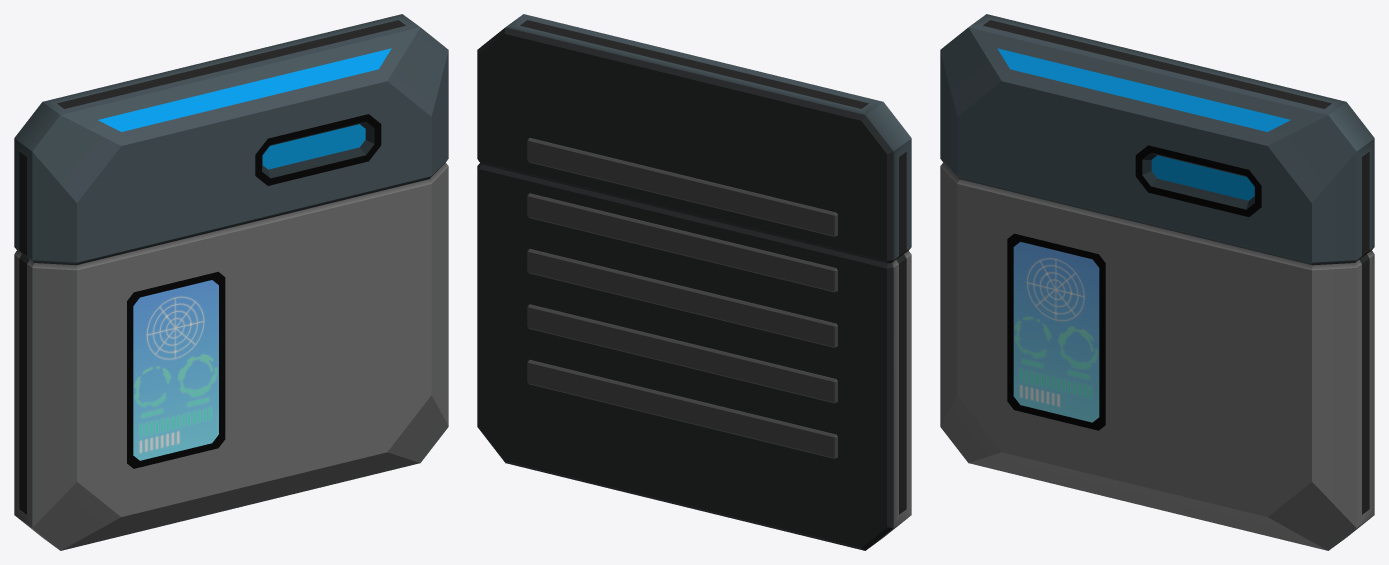
Rendered from Cargo_drone_001_door_001.fbx.
The picture shows the model from 3 angles, left to right: view 1: azimuth 30°, elevation 25°; view 2: azimuth 150°, elevation 25°; view 3: azimuth 330°, elevation 25°; orthographic projection.
Parts seen in each view (by area): view 1: Cargo_drone_001_door_001; view 2: Cargo_drone_001_door_001; view 3: Cargo_drone_001_door_001.
Part boxes in pixels (x1=…): Cargo_drone_001_door_001: x1=14, y1=14, x2=448, y2=550; Cargo_drone_001_door_001: x1=477, y1=14, x2=911, y2=550; Cargo_drone_001_door_001: x1=940, y1=14, x2=1374, y2=550.
Bounding box in the file's own units: 100 × 15 × 100.
